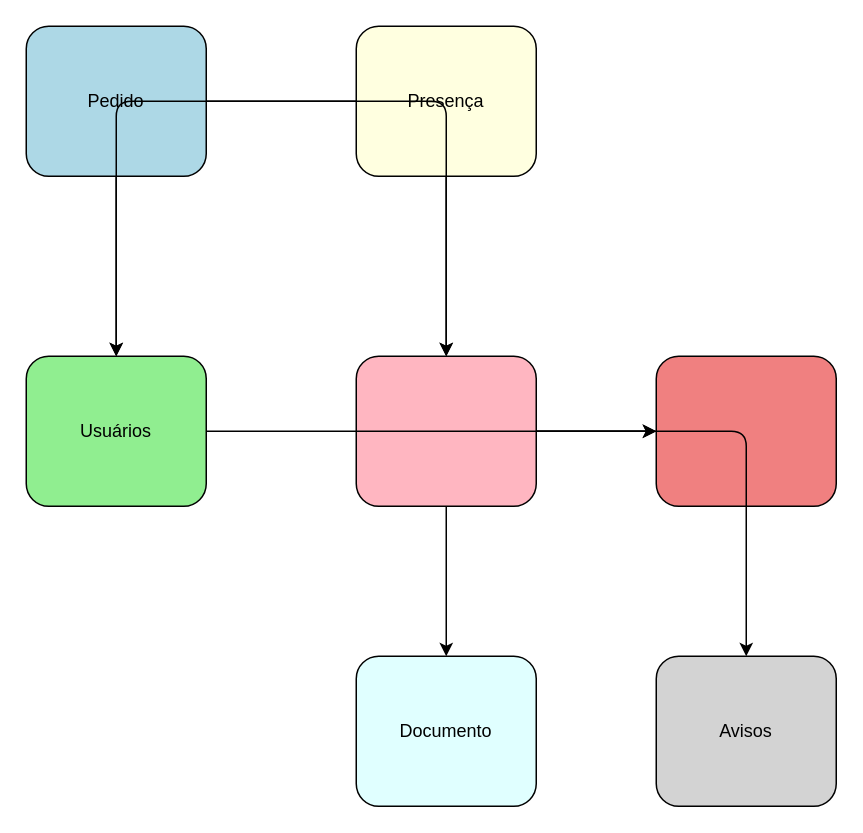
The diagram is 863 pixels wide and 833 high, and some of its shapes have lost their labels. Here are the shapes that lost their labels. From the top down, the box of each, then its label:
(355, 355, 536, 506): Monitorias
(655, 355, 836, 506): Feedback
